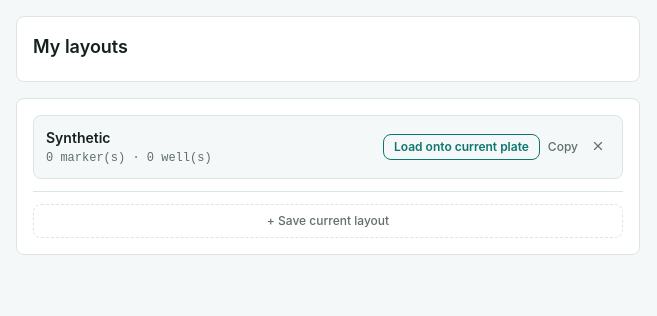
Scenario: sanitizes mutation failure without falsely reporting success
Click the button with test id "layout-copy-button" at (563, 147), box [548,134,578,160]
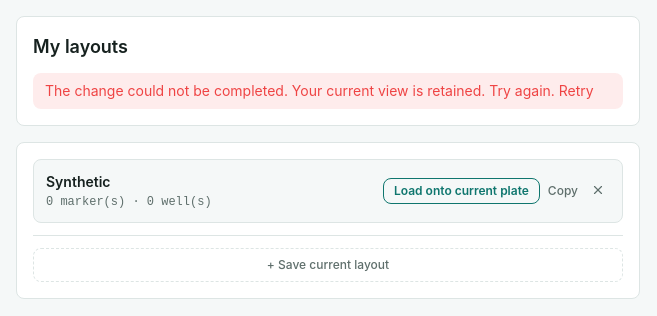
Now the message shows "The change could not be completed", box [45,82,555,99]
